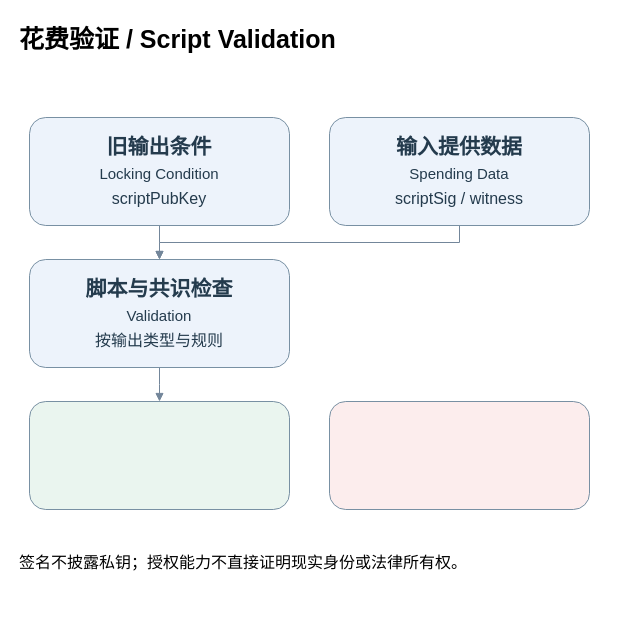
Some shapes in this 618 by 633 pixel diagram are drawn without their labels. The shapes that lost their labels are listed below. From the top down, each one's centre as x and y in pixels, then its label:
At (159,455): "可接受的花费 Authorized Spend 仍需其他交易规则".
At (459,455): "现实身份 Real Identity 需要外部证据".
